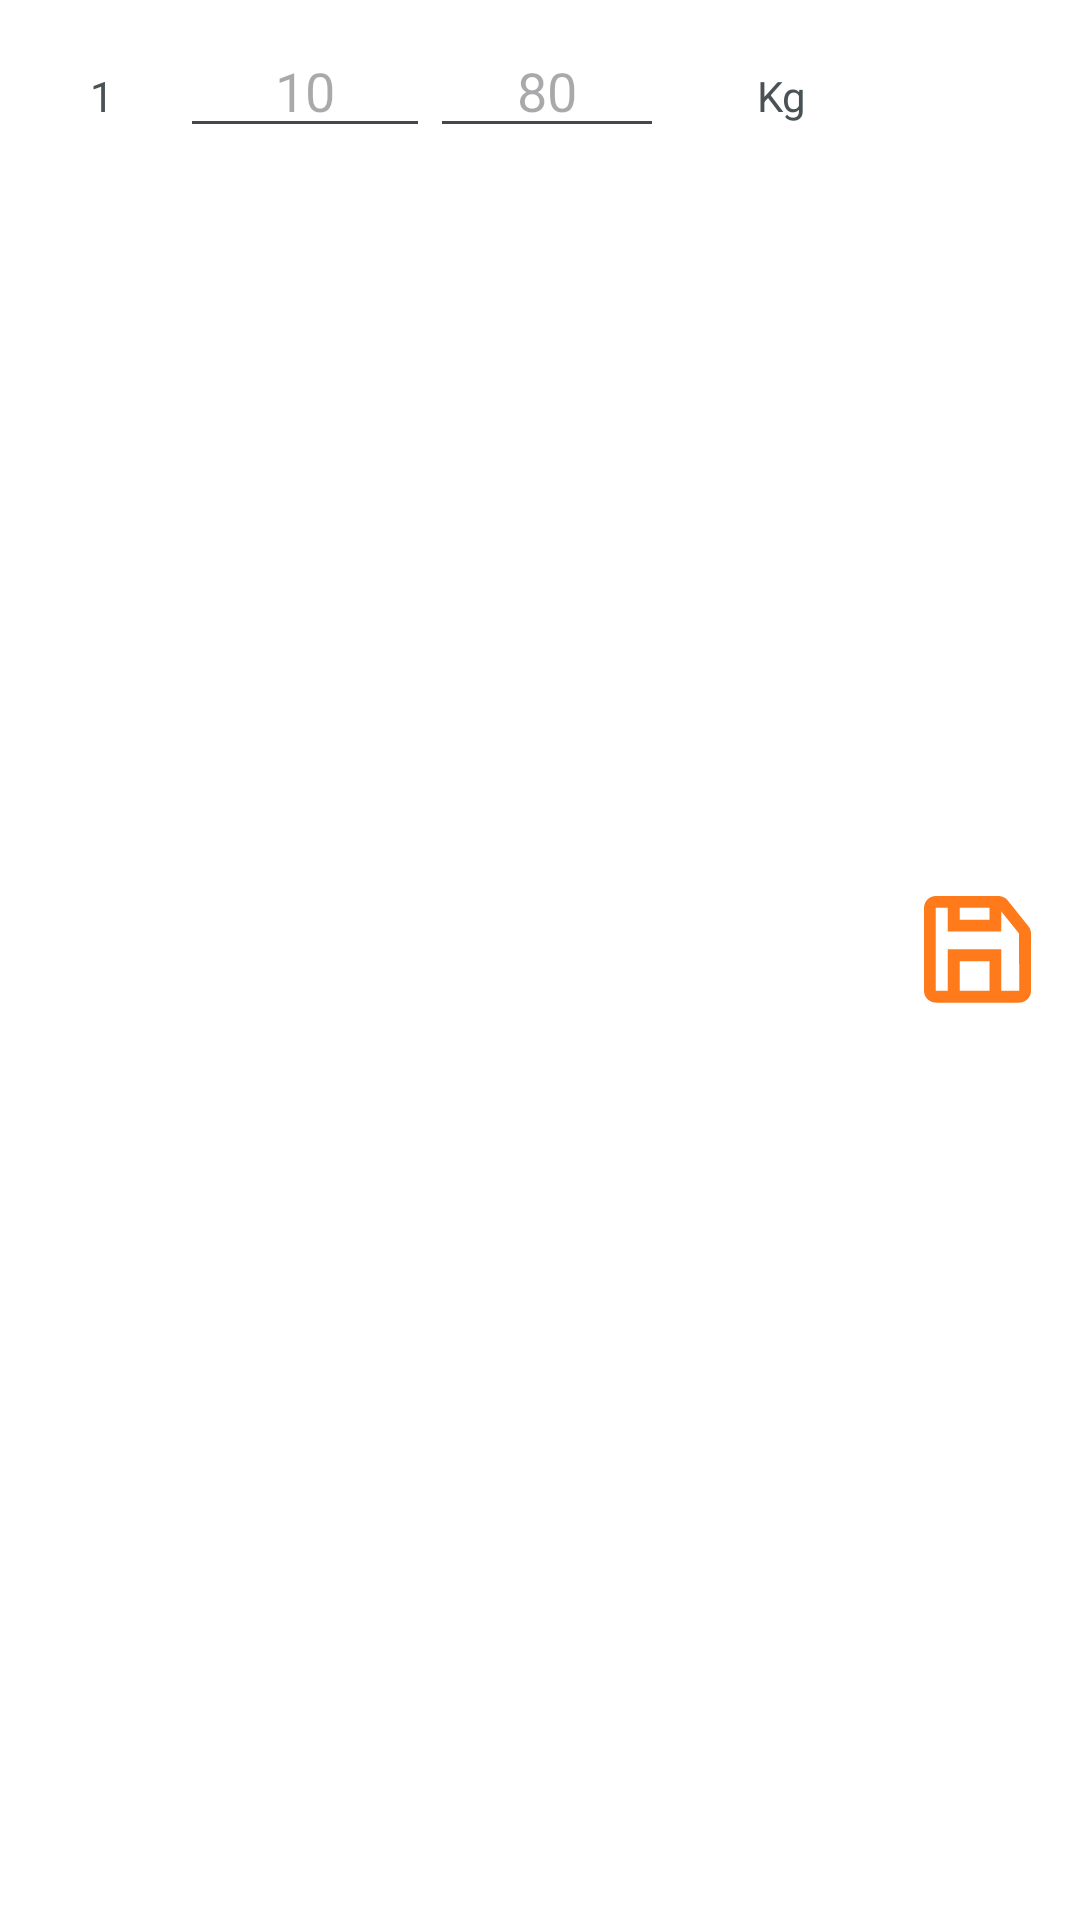

Where to tap for icons on this 1080px×1920px app screen, as (x=x, y=y):
guardar: (x=977, y=949)
